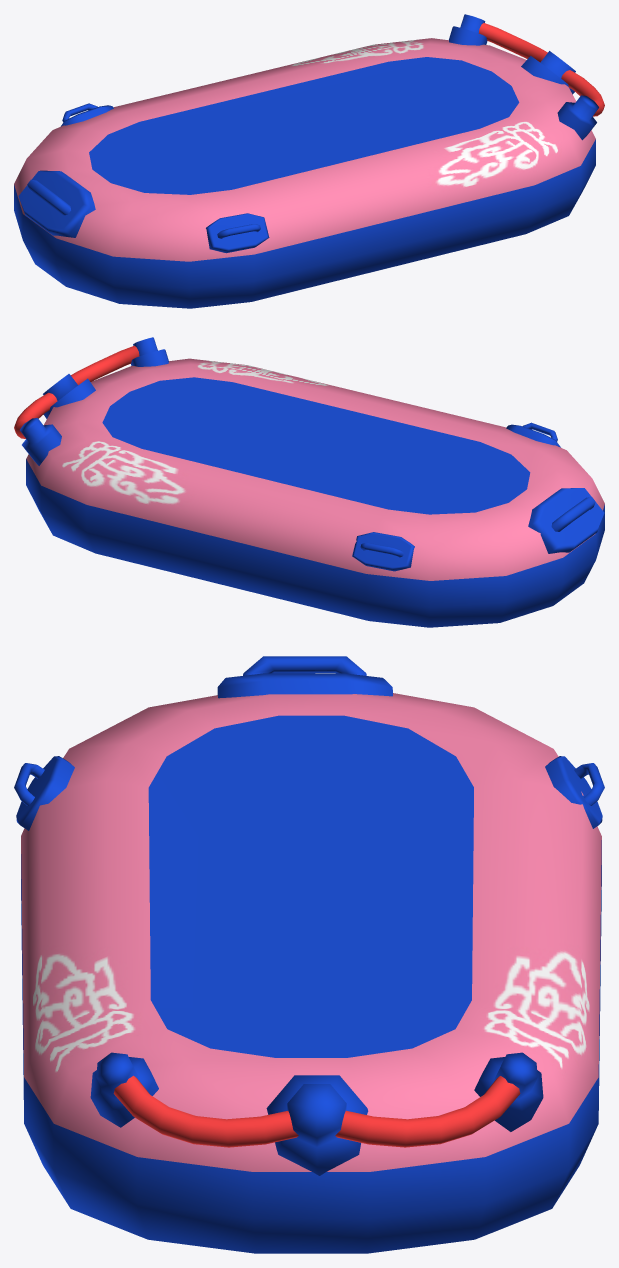
The model's file is OBS0110201.fbx.
The picture shows the model from 3 angles, top to bottom: view 1: azimuth 30°, elevation 25°; view 2: azimuth 150°, elevation 25°; view 3: azimuth 270°, elevation 25°; orthographic projection. The views are drawn at different scales.
Parts seen in each view (by area): view 1: smOBS0110201; view 2: smOBS0110201; view 3: smOBS0110201.
Part boxes in pixels (bbox=[...]): smOBS0110201: bbox=[14, 14, 604, 308]; smOBS0110201: bbox=[14, 337, 604, 627]; smOBS0110201: bbox=[14, 656, 604, 1253].
Bounding box in the file's own units: 285 × 57.73 × 154.
Materials: 1 (1 with a texture image).
